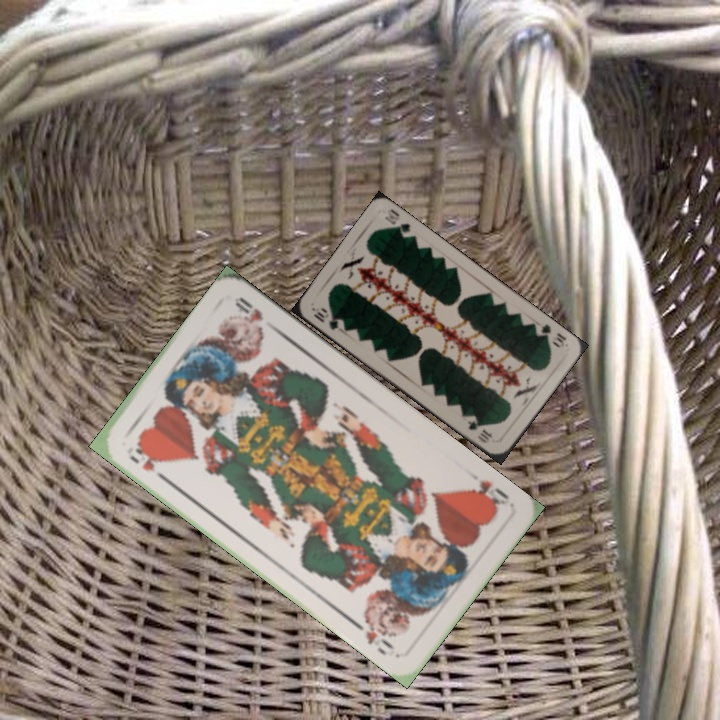G10: (531, 320, 569, 350), (310, 304, 348, 334)
HO: (464, 467, 512, 513), (125, 440, 169, 484)
